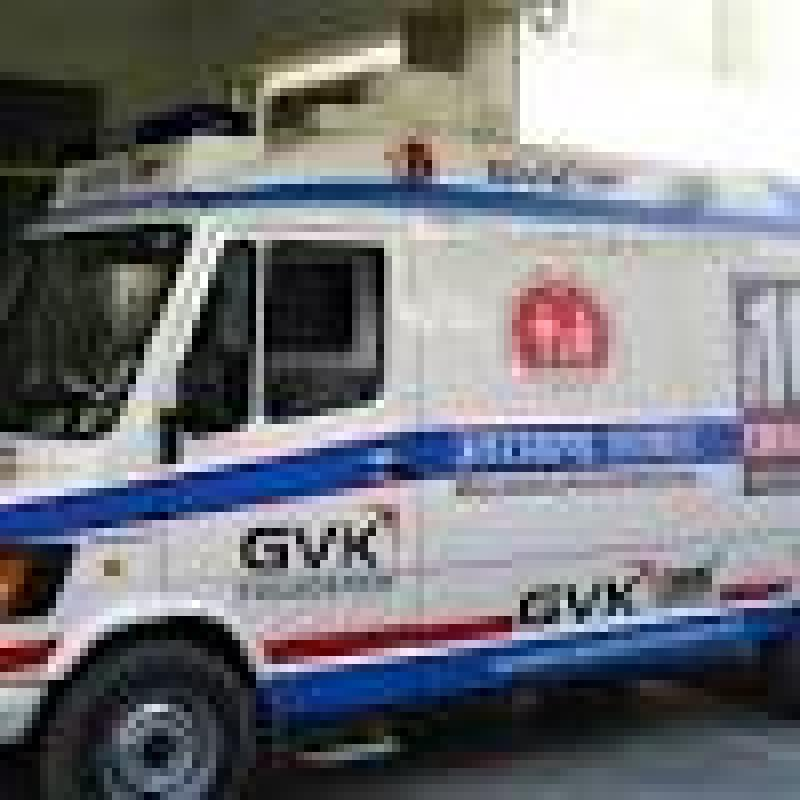ambulance: (0, 87, 800, 798)
